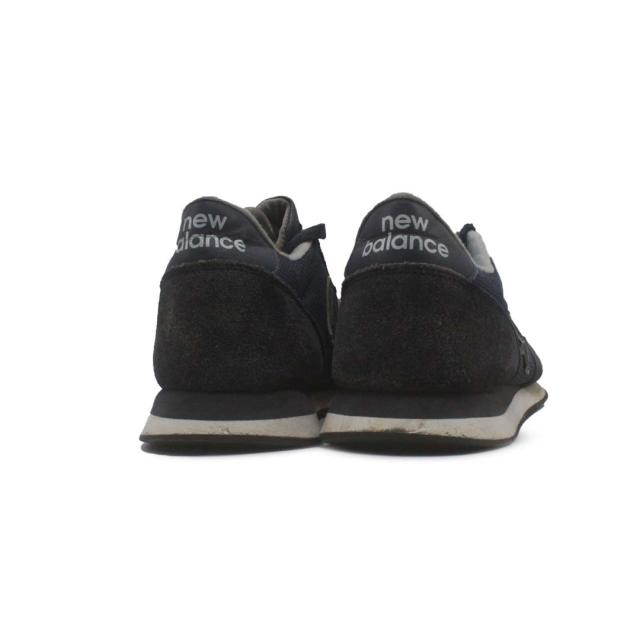heel: (331, 196, 516, 385), (152, 201, 322, 388)
midsole: (319, 385, 547, 455), (140, 385, 323, 447)
